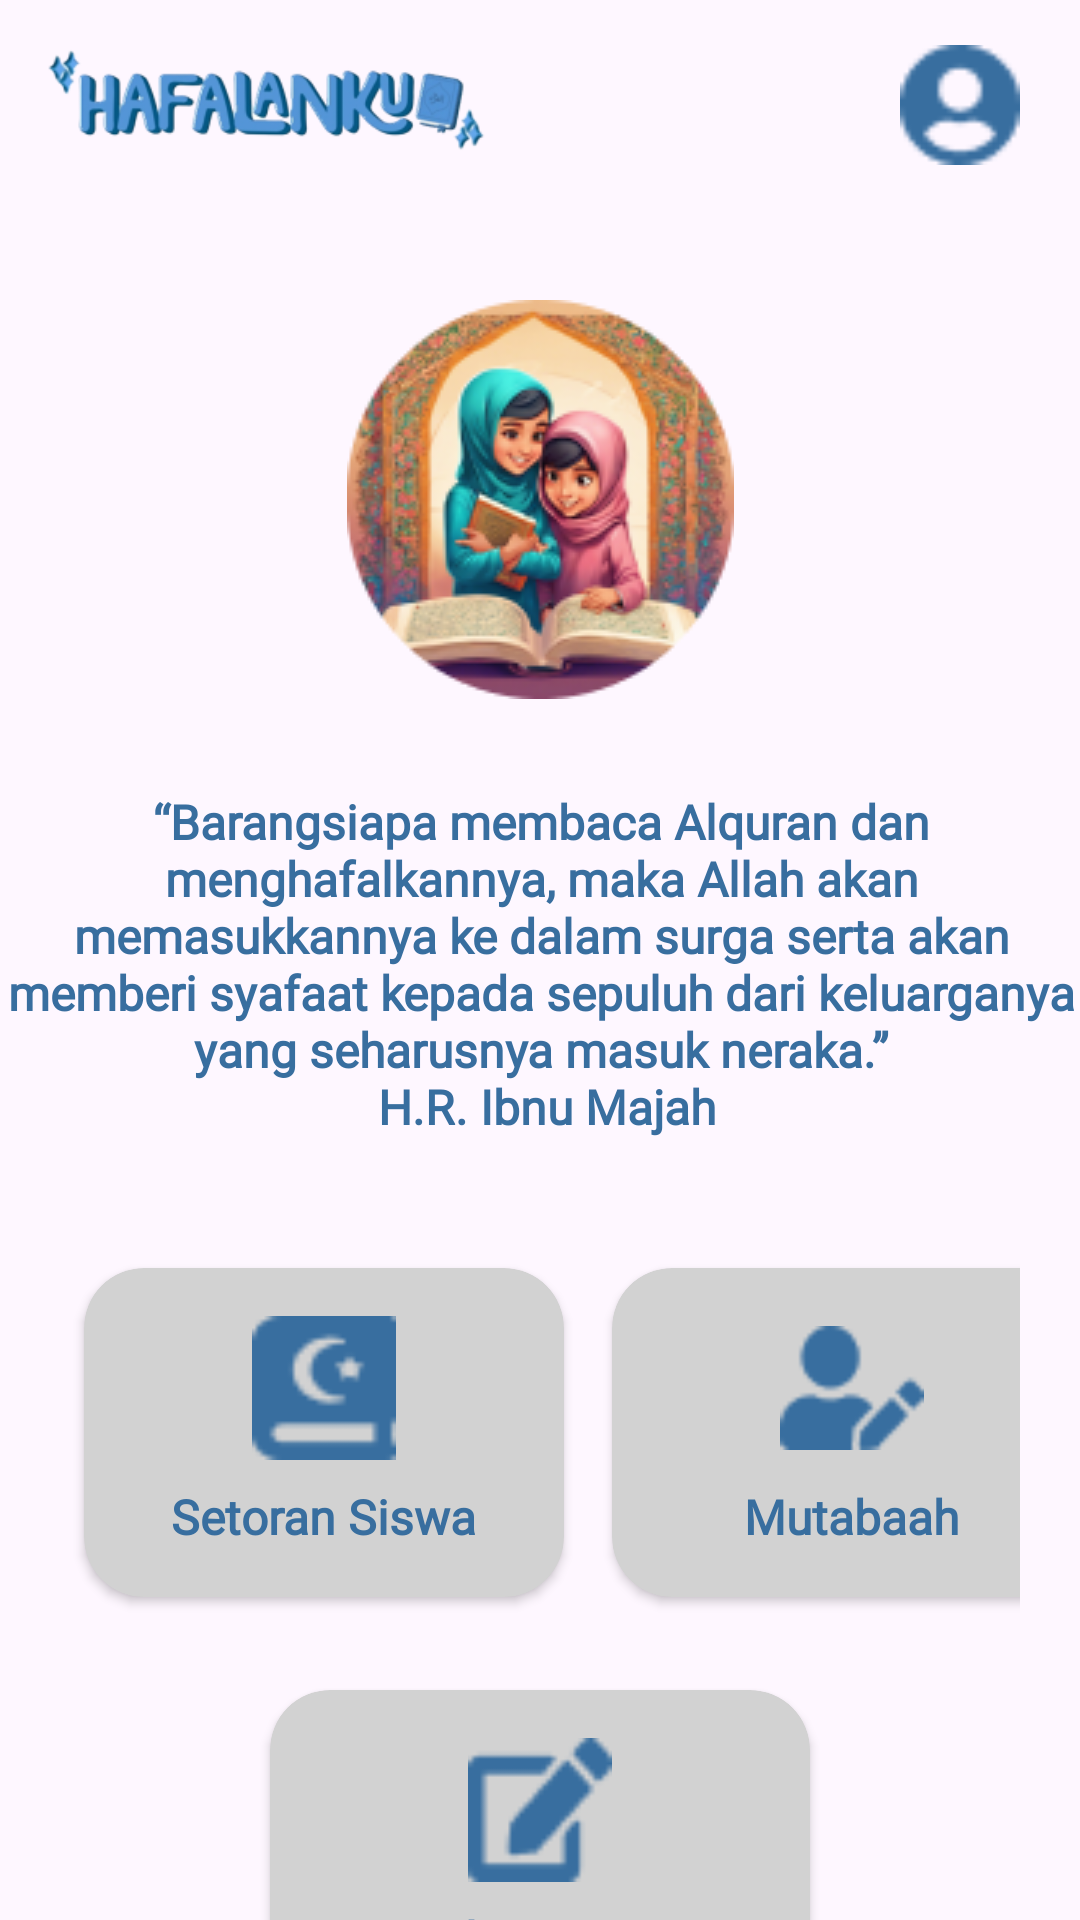

Named icons in this screenshot (1080w x 1920h) and their centers, (x=x, y=y):
profile: (x=960, y=105)
